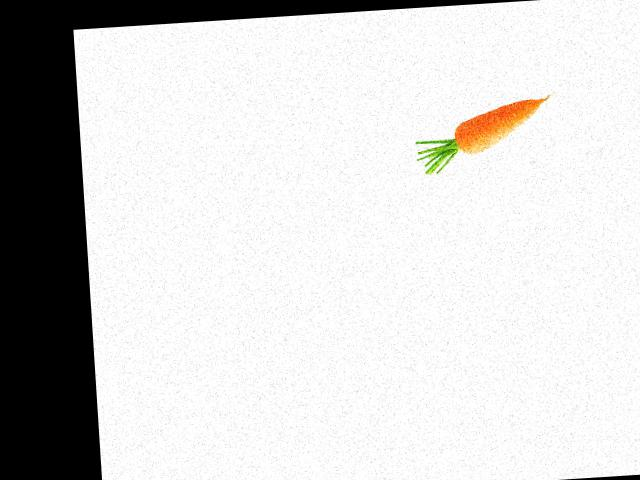carrot: (467, 92, 558, 157)
